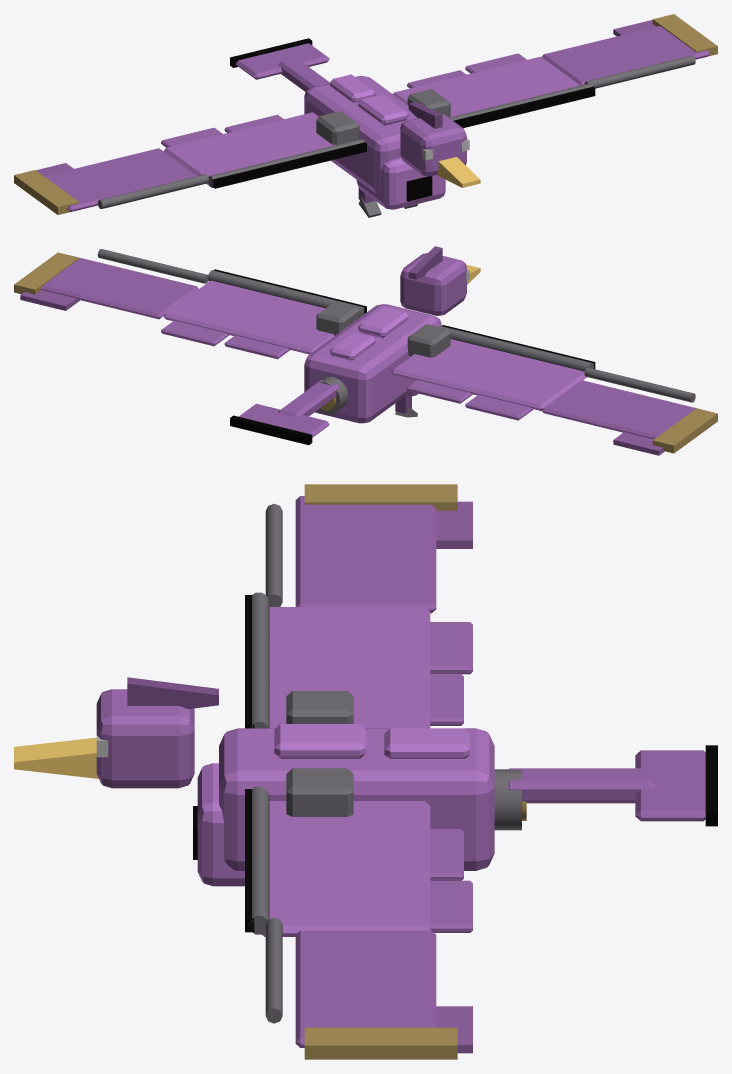
File: raptor.glb
3 renders of one model, top to bottom at view 1: azimuth 30°, elevation 25°; view 2: azimuth 150°, elevation 25°; view 3: azimuth 270°, elevation 25°, orthographic. The views are drawn at different scales.
Visible parts, largest first — view 1: raptor.003, raptor.002, raptor*0.006, raptor*0.012, raptor.001, raptor*0.9, raptor*1.15, glow*0.006, raptor*0.003, glow*0.002, glow*0.007, gunmetal.008 (+18 smaller); view 2: raptor.003, raptor.001, raptor.002, raptor*0.006, raptor*0.012, raptor*0.9, gunmetal.006, gunmetal.003, glow*0.007, raptor*0.003, glow*0.005, gunmetal.007 (+17 smaller); view 3: raptor.002, raptor.003, raptor.001, raptor*0.012, raptor*0.006, raptor*0.9, glow*0.005, raptor*0.8, raptor*0.003, glow*0.007, raptor*1.15, gunmetal.004 (+19 smaller).
Part boxes in pixels (x1=…): raptor.003: x1=163, y1=112, x2=335, y2=187; raptor.002: x1=393, y1=56, x2=579, y2=117; raptor*0.006: x1=542, y1=26, x2=710, y2=85; raptor*0.012: x1=44, y1=148, x2=196, y2=211; raptor.001: x1=304, y1=76, x2=416, y2=194; raptor*0.9: x1=400, y1=114, x2=466, y2=176; raptor*1.15: x1=356, y1=157, x2=445, y2=209; glow*0.006: x1=212, y1=142, x2=366, y2=188; raptor*0.003: x1=235, y1=43, x2=329, y2=79; glow*0.002: x1=453, y1=86, x2=595, y2=128; glow*0.007: x1=14, y1=170, x2=79, y2=214; gunmetal.008: x1=97, y1=174, x2=208, y2=208; raptor.003: x1=391, y1=339, x2=586, y2=410; raptor.001: x1=304, y1=304, x2=441, y2=423; raptor.002: x1=163, y1=280, x2=334, y2=354; raptor*0.006: x1=41, y1=257, x2=198, y2=319; raptor*0.012: x1=541, y1=380, x2=696, y2=439; raptor*0.9: x1=400, y1=253, x2=466, y2=315; gunmetal.006: x1=439, y1=326, x2=594, y2=371; gunmetal.003: x1=208, y1=270, x2=364, y2=317; glow*0.007: x1=652, y1=408, x2=717, y2=453; raptor*0.003: x1=239, y1=403, x2=329, y2=437; glow*0.005: x1=14, y1=252, x2=79, y2=294; gunmetal.007: x1=407, y1=324, x2=450, y2=357; raptor.002: x1=262, y1=801, x2=430, y2=936; raptor.003: x1=269, y1=607, x2=430, y2=728; raptor.001: x1=219, y1=728, x2=494, y2=870; raptor*0.012: x1=295, y1=496, x2=436, y2=613; raptor*0.006: x1=295, y1=930, x2=436, y2=1047; raptor*0.9: x1=96, y1=689, x2=194, y2=788; glow*0.005: x1=304, y1=1027, x2=457, y2=1059; raptor*0.8: x1=508, y1=768, x2=656, y2=803; raptor*0.003: x1=635, y1=750, x2=705, y2=821; glow*0.007: x1=304, y1=484, x2=457, y2=510; raptor*1.15: x1=197, y1=763, x2=244, y2=886; gunmetal.004: x1=286, y1=768, x2=353, y2=816.
Bounding box in the file's own units: 4.34 × 0.8178 × 2.3.
